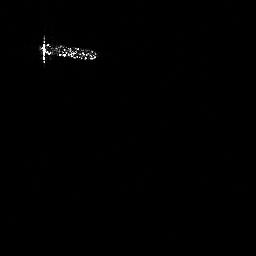ship: (33, 33, 100, 67)
